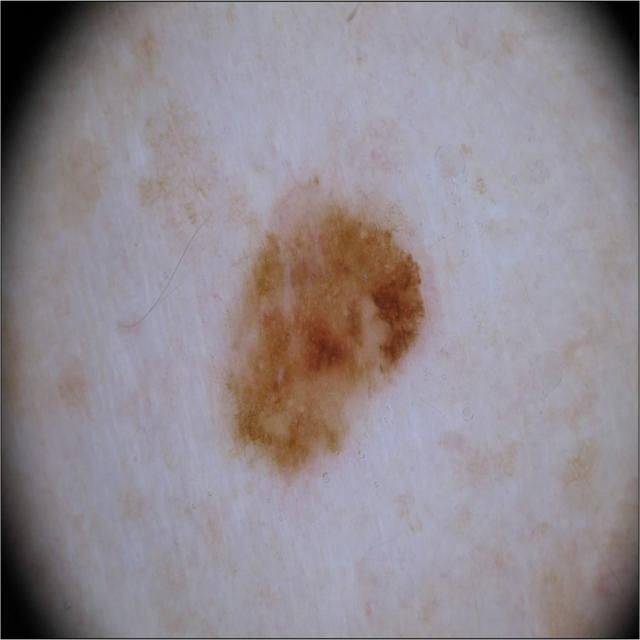Melanoma: (217, 191, 433, 493)
